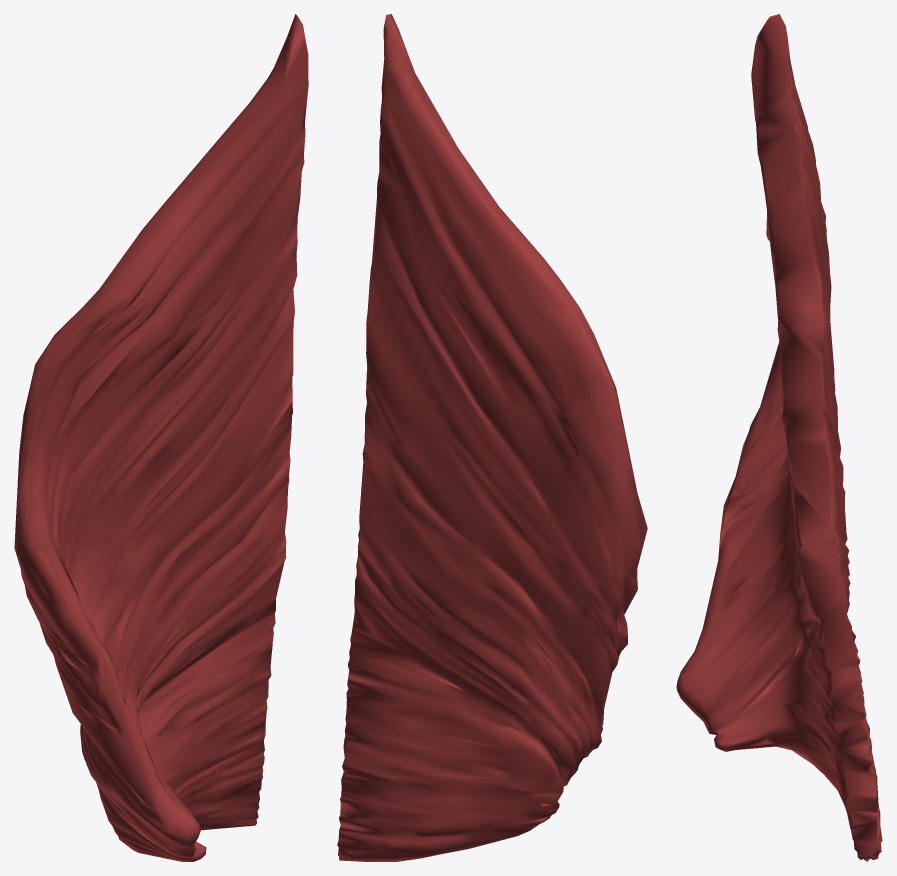
The model's file is inferior-pharyngeal-constrictor-r.glb.
3 views of the same model, side by side, from view 1: azimuth 30°, elevation 25°; view 2: azimuth 150°, elevation 25°; view 3: azimuth 270°, elevation 25° (orthographic). The views are drawn at different scales.
Visible parts, largest first — view 1: Inferior pharyngeal constrictor.r; view 2: Inferior pharyngeal constrictor.r; view 3: Inferior pharyngeal constrictor.r.
Part boxes in pixels (<box>): Inferior pharyngeal constrictor.r: <box>14,14,308,861</box>; Inferior pharyngeal constrictor.r: <box>337,14,647,861</box>; Inferior pharyngeal constrictor.r: <box>676,14,882,861</box>.
Bounding box in the file's own units: 0.022 × 0.0651 × 0.0143.
